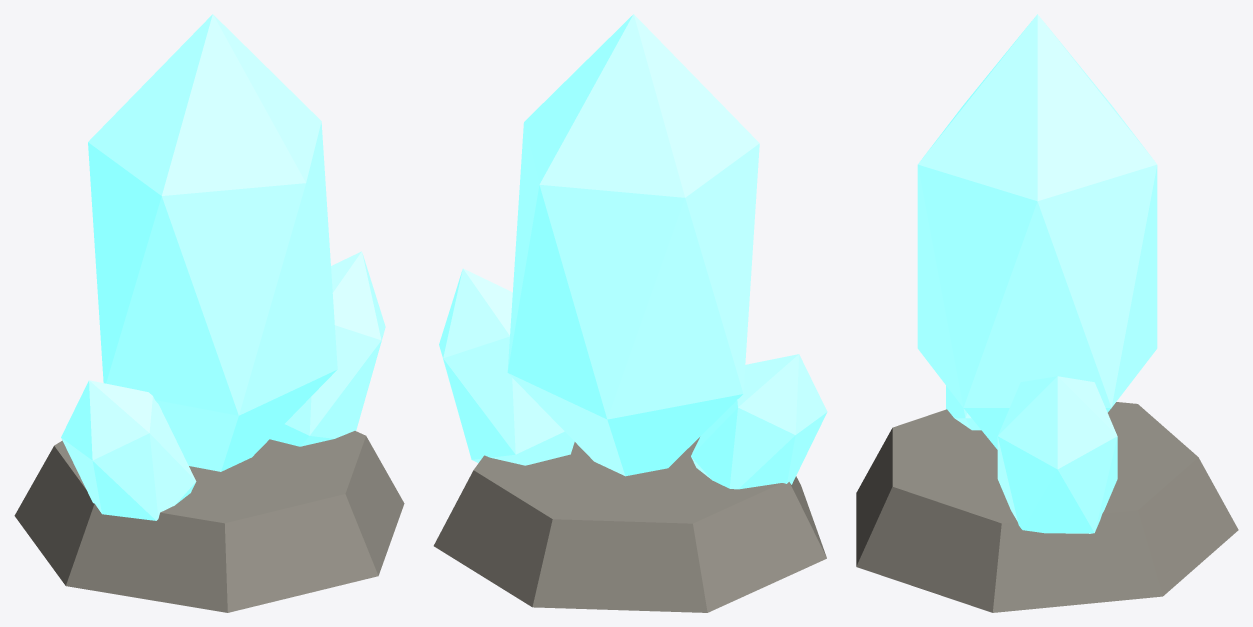
File: crystal-lod1.glb
3 views of the same model, side by side, from view 1: azimuth 30°, elevation 25°; view 2: azimuth 150°, elevation 25°; view 3: azimuth 270°, elevation 25° (orthographic).
Visible parts, largest first — view 1: crystal; view 2: crystal; view 3: crystal.
Boxes of the visible parts, x1,y1,x2,y2 form: crystal: (14,14,404,612); crystal: (433,14,827,612); crystal: (856,14,1238,612).
Bounding box in the file's own units: 0.4055 × 0.566 × 0.3802.
